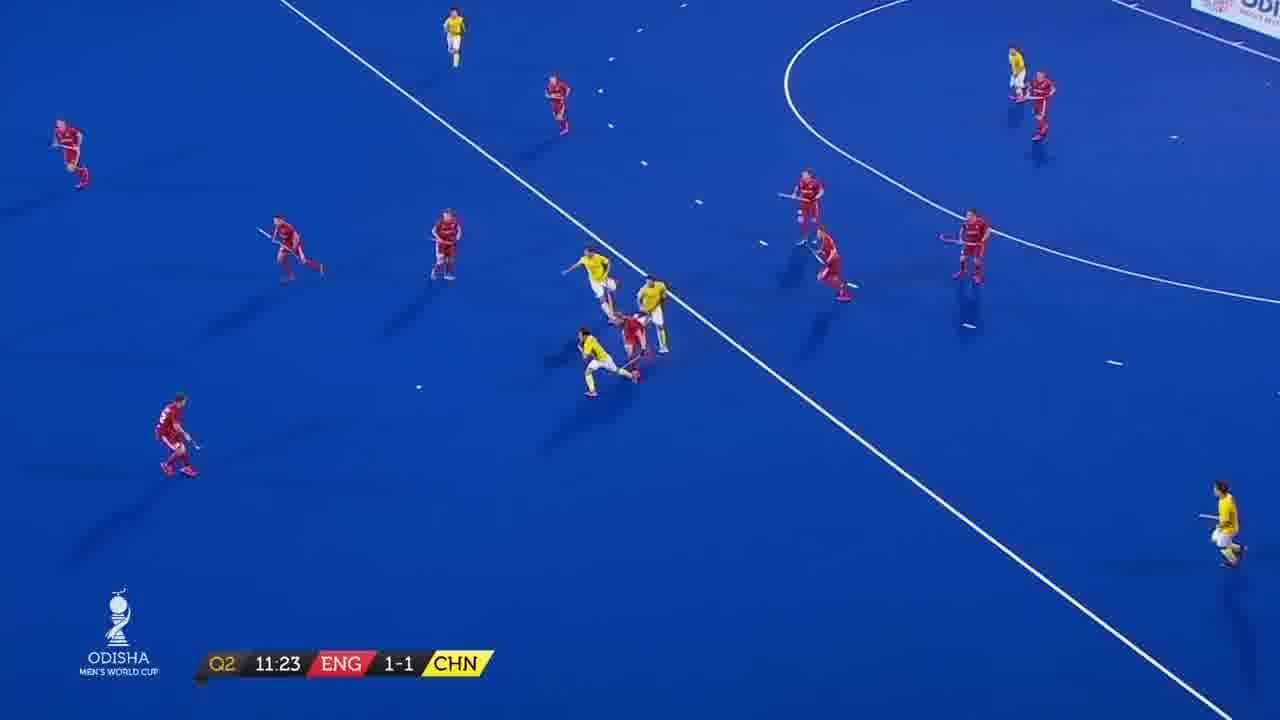ball: (406, 377, 430, 396)
